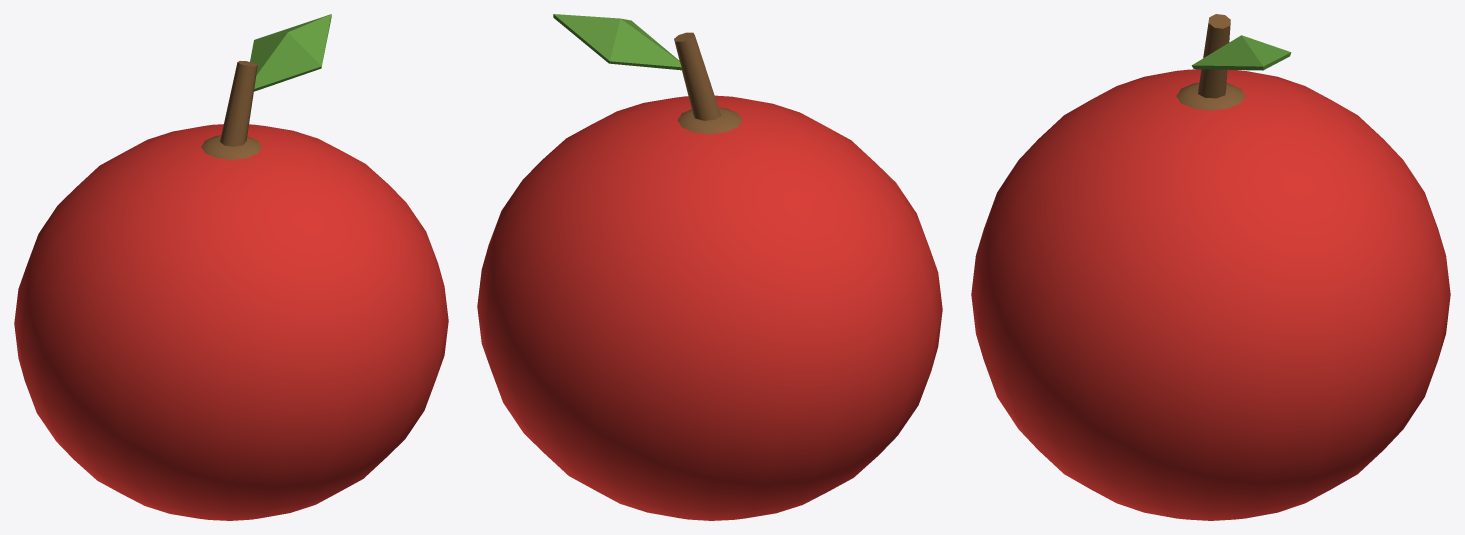
Rendered from food_apple.glb.
3 views of the same model, side by side, from view 1: azimuth 30°, elevation 25°; view 2: azimuth 150°, elevation 25°; view 3: azimuth 270°, elevation 25° (orthographic). The views are drawn at different scales.
Visible parts, largest first — view 1: Apple, Apple leaf, Apple stem, Apple top dimple; view 2: Apple, Apple leaf, Apple stem, Apple top dimple; view 3: Apple, Apple leaf, Apple stem, Apple top dimple.
Boxes of the visible parts, bbox=[...] form: Apple: bbox=[14, 124, 448, 520]; Apple leaf: bbox=[250, 14, 331, 91]; Apple stem: bbox=[220, 61, 257, 146]; Apple top dimple: bbox=[201, 135, 261, 159]; Apple: bbox=[477, 95, 942, 520]; Apple leaf: bbox=[553, 14, 681, 70]; Apple stem: bbox=[674, 32, 721, 120]; Apple top dimple: bbox=[677, 107, 742, 134]; Apple: bbox=[971, 69, 1450, 520]; Apple leaf: bbox=[1191, 35, 1291, 70]; Apple stem: bbox=[1198, 14, 1230, 98]; Apple top dimple: bbox=[1176, 83, 1245, 110].
Size of the model in its own units: 0.114 by 0.1265 by 0.11.
